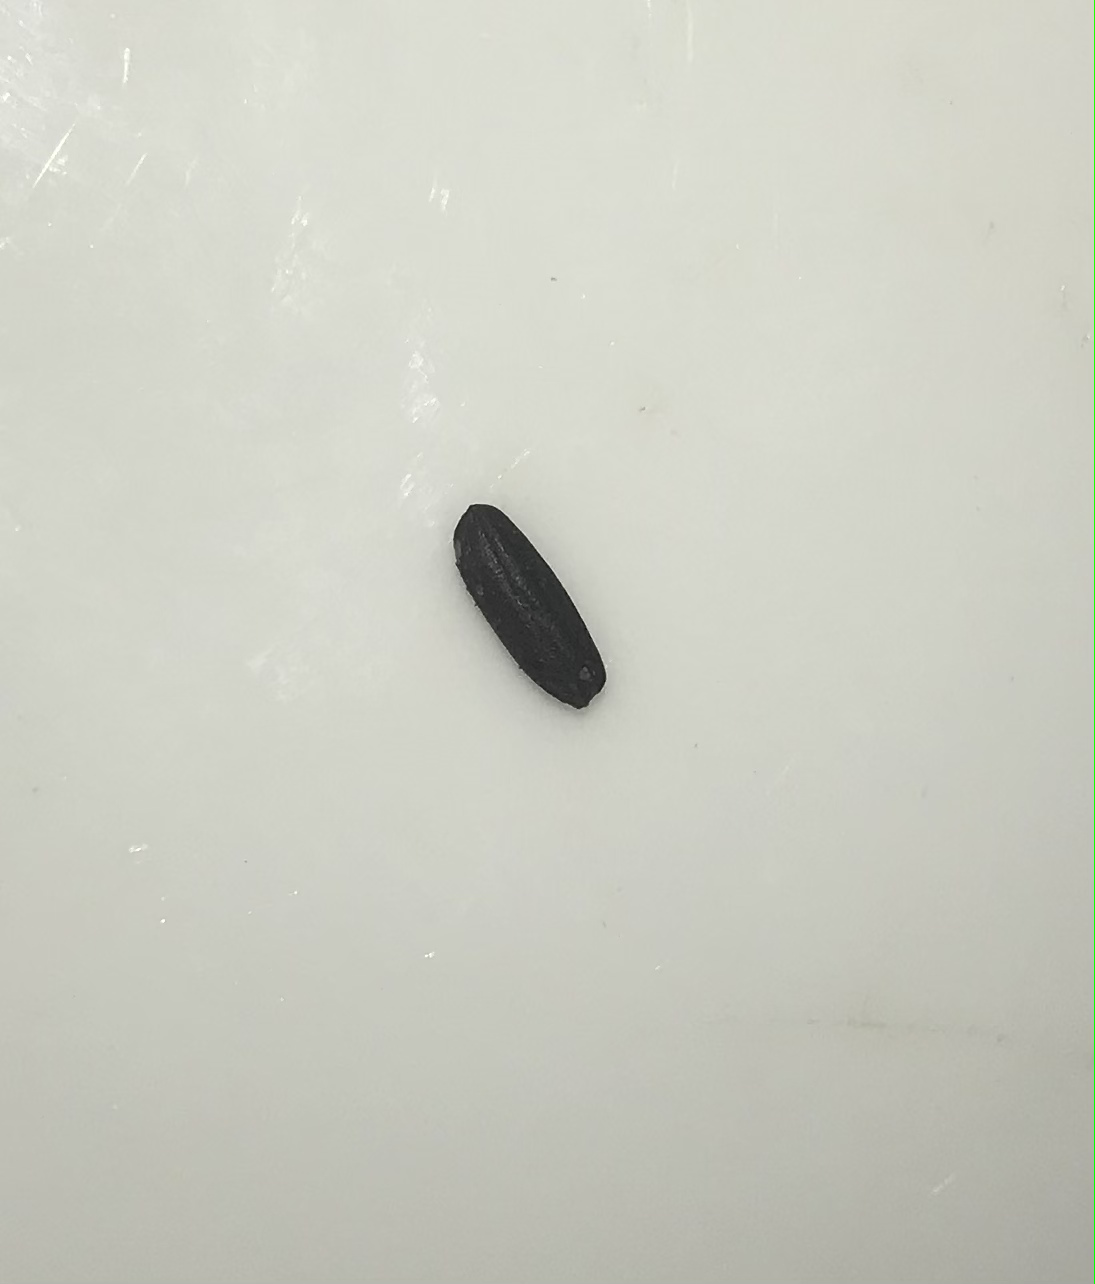Gao Nep Cam: (435, 461, 626, 735)
